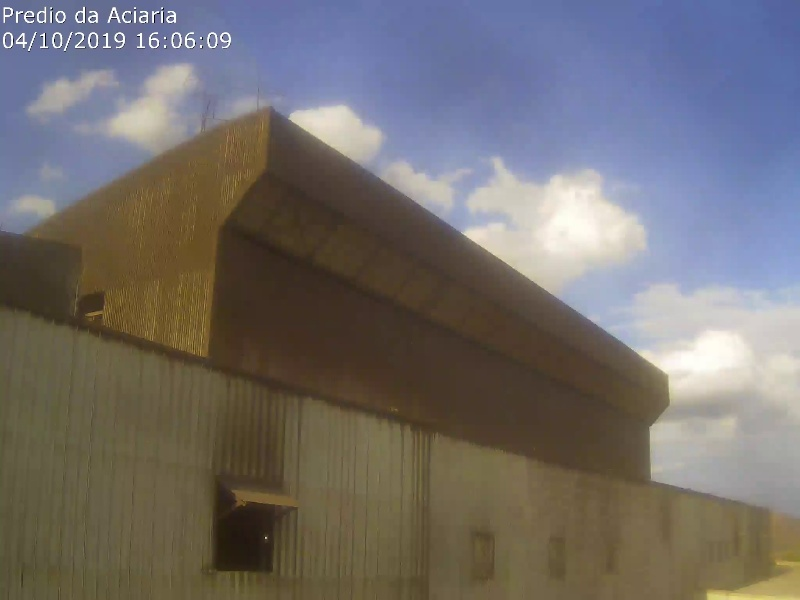bom: (244, 1, 800, 153), (463, 142, 800, 370), (1, 1, 237, 185)
